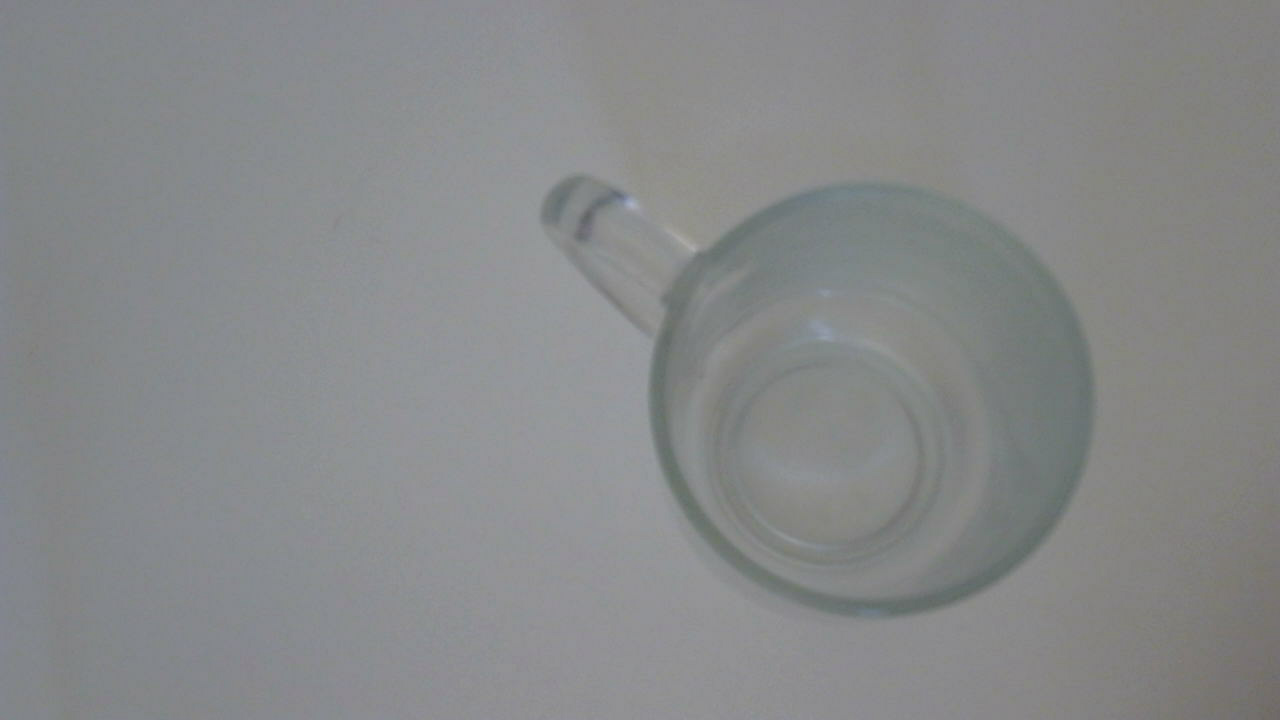Glass: (484, 139, 1115, 632)
